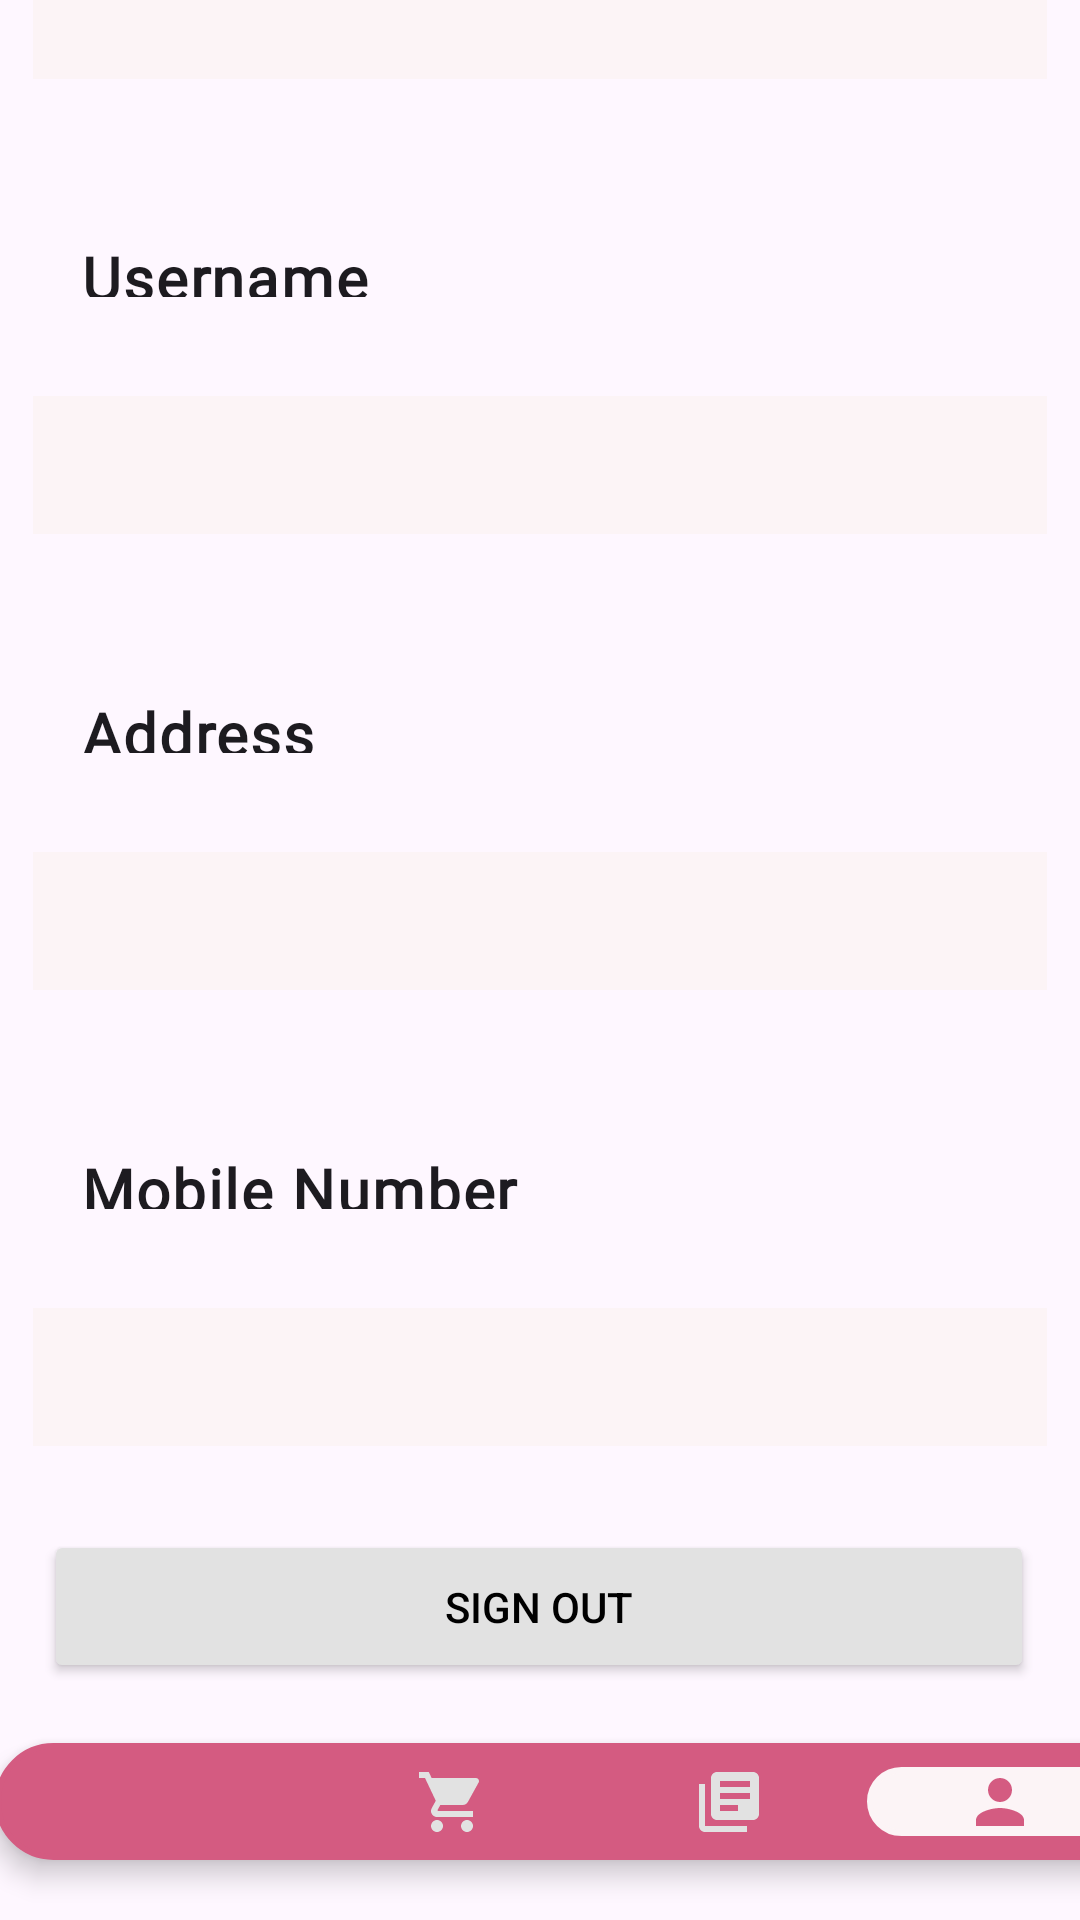

Locate icon controls on the screen. Image size 1080 x 1920, boxes as (x1, y1, x2, y2).
cart: (419, 1772, 479, 1832)
orders: (699, 1772, 759, 1832)
